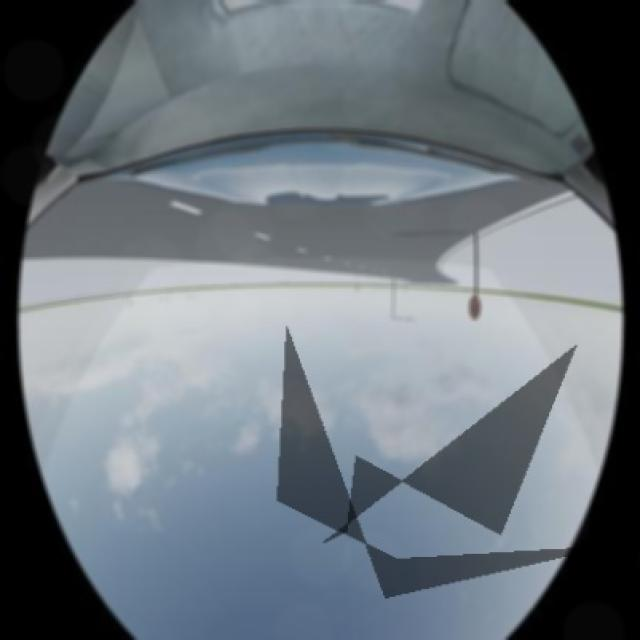forb_speed_over_120: (469, 296, 480, 318)
